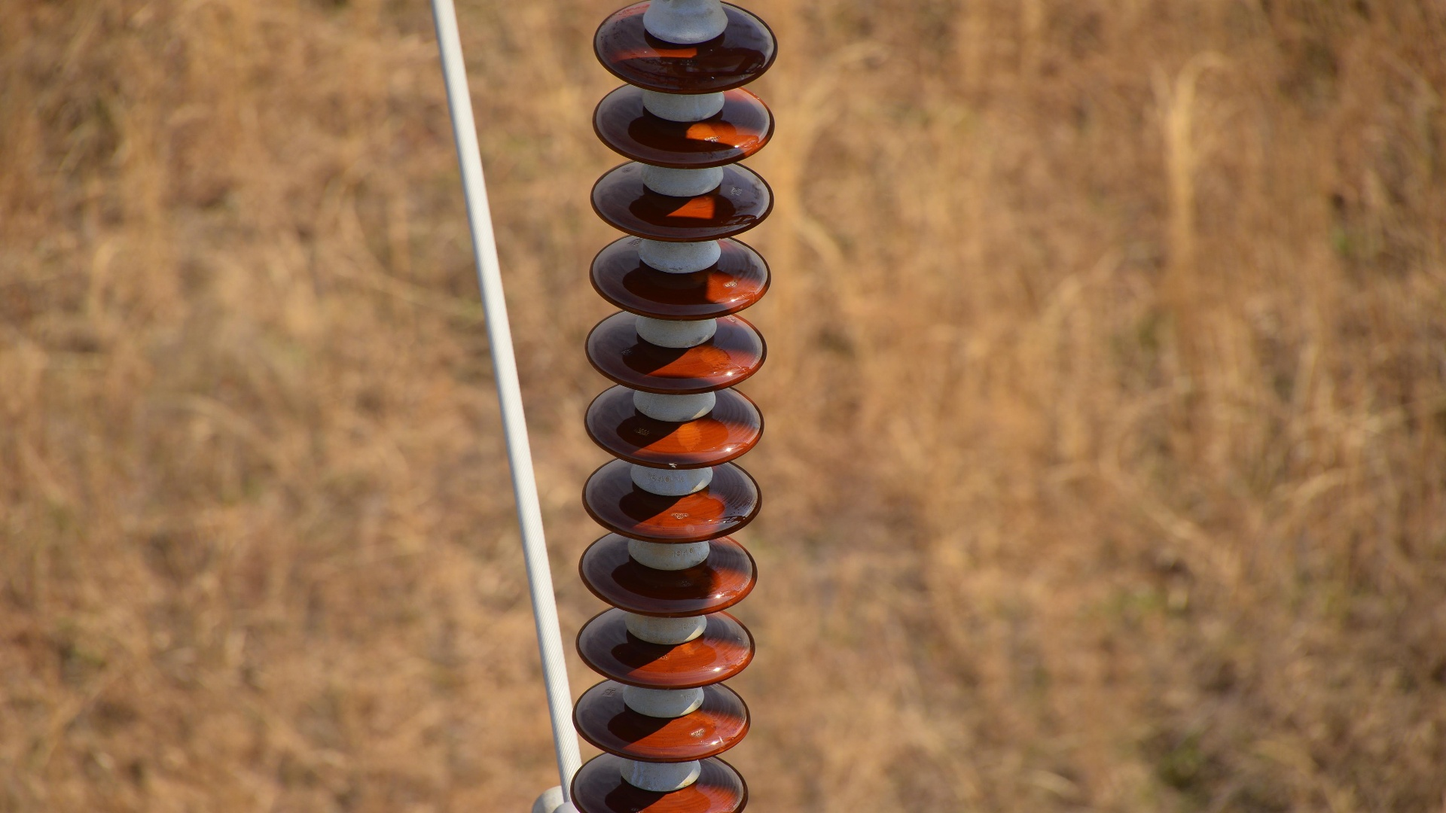insulator: (564, 1, 782, 813)
